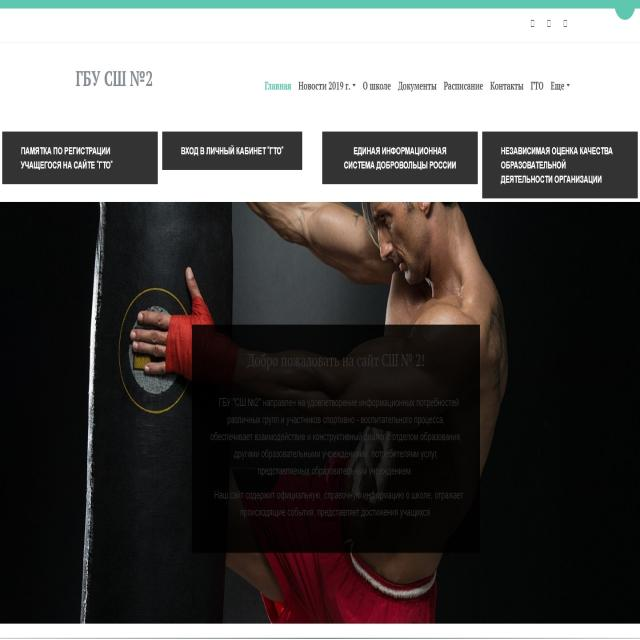button: (296, 74, 357, 97), (441, 72, 485, 99), (394, 73, 438, 98), (487, 74, 525, 99), (359, 74, 392, 99), (260, 76, 294, 96), (549, 75, 573, 97), (526, 75, 548, 95)
heading: (246, 342, 425, 377), (74, 64, 155, 96)
image: (0, 201, 635, 621)
text: (197, 389, 473, 531), (496, 140, 623, 193), (339, 142, 465, 179), (19, 140, 119, 178), (177, 143, 293, 165)
